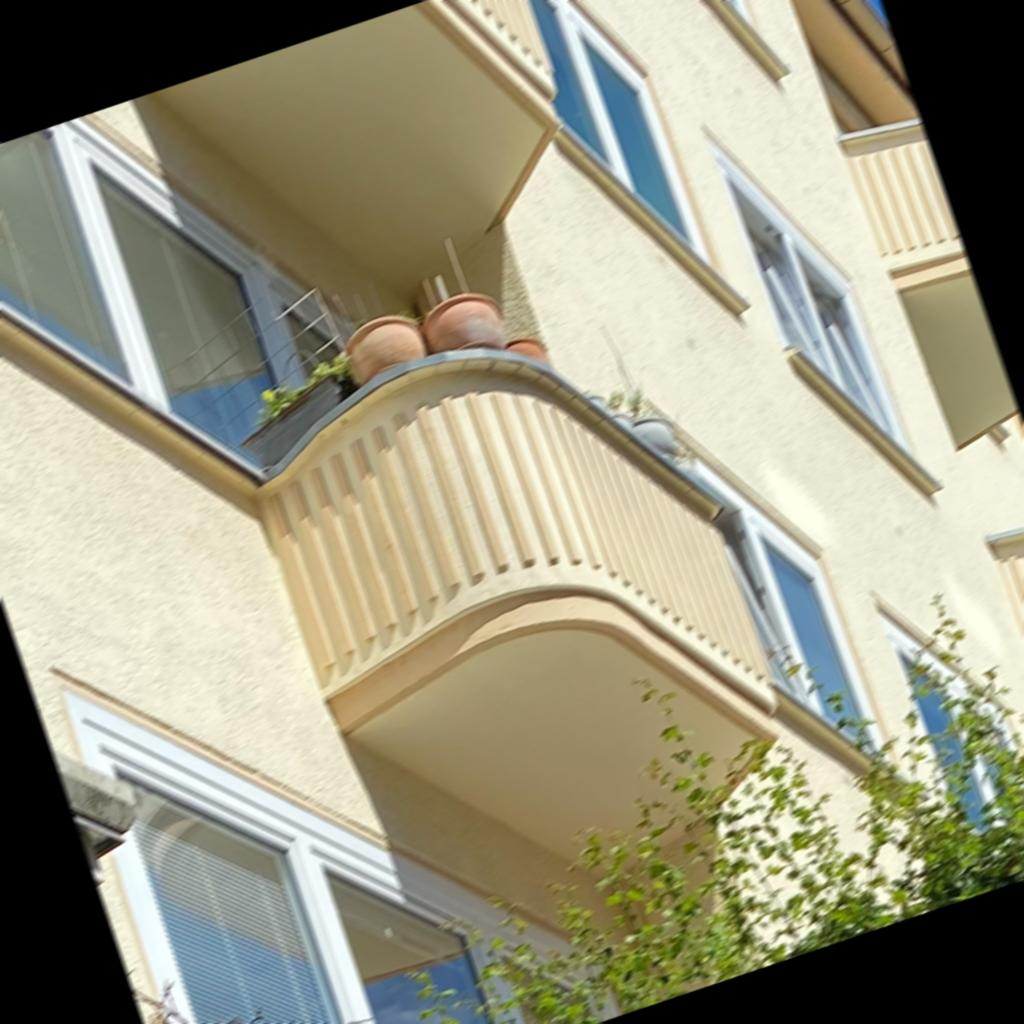tree: (400, 590, 1023, 1023)
